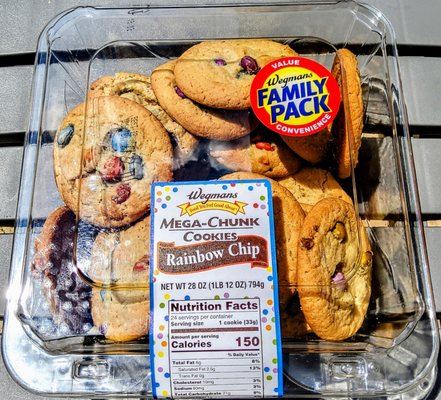curry: (26, 78, 176, 343)
pasta: (149, 174, 282, 395)
